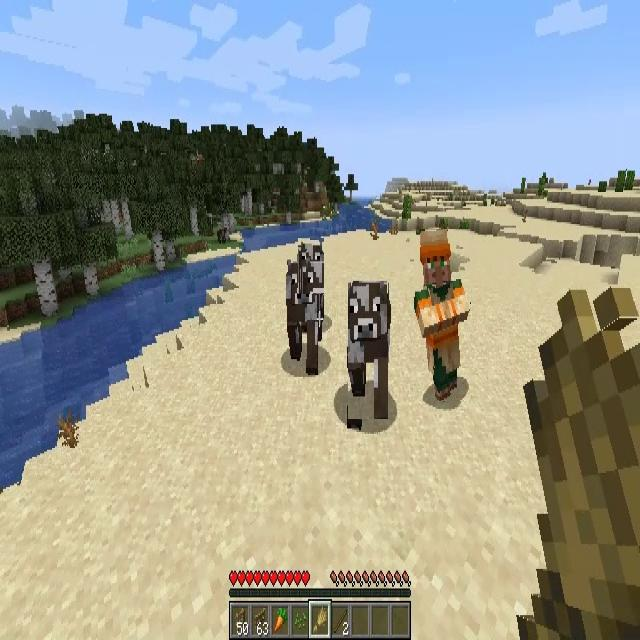cow: (348, 279, 388, 419), (287, 262, 323, 362), (298, 238, 324, 294)
people: (414, 229, 470, 401)
